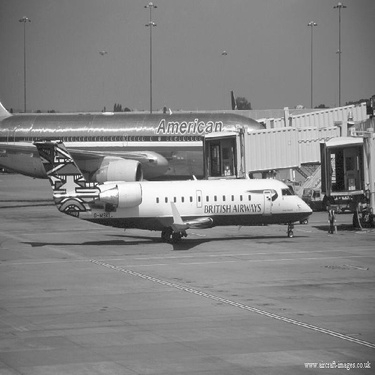airplane: (11, 132, 320, 254), (1, 108, 273, 178)
